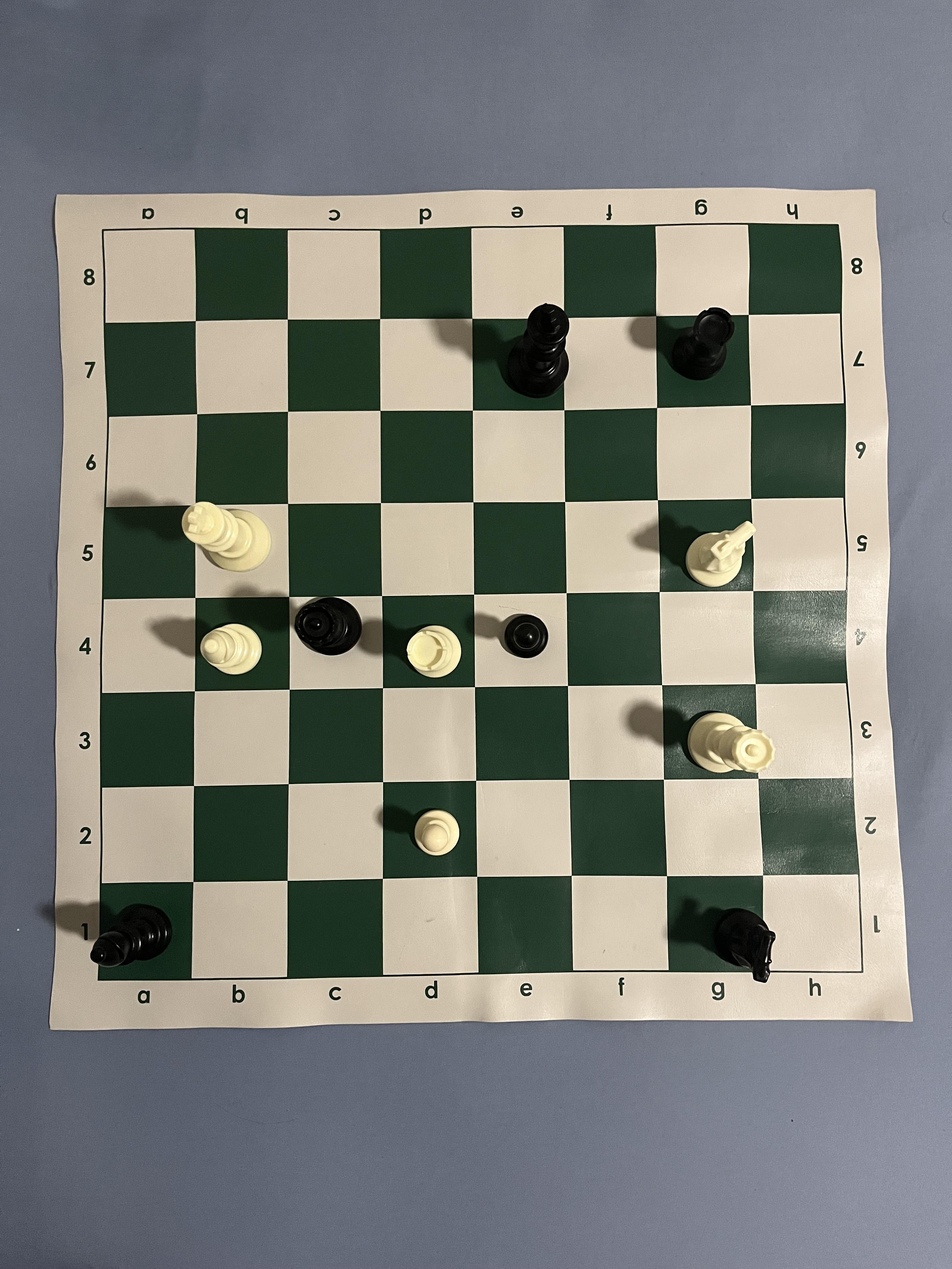black_bishop: (90, 903, 173, 967)
black_king: (503, 302, 571, 398)
black_knight: (714, 908, 778, 984)
black_pawn: (502, 613, 548, 659)
black_queen: (295, 597, 363, 656)
black_rook: (669, 307, 736, 381)
white_bishop: (200, 623, 264, 676)
white_king: (181, 501, 273, 572)
white_knight: (685, 521, 757, 588)
white_pawn: (413, 809, 461, 857)
white_queen: (687, 711, 775, 775)
white_rook: (407, 624, 462, 679)
